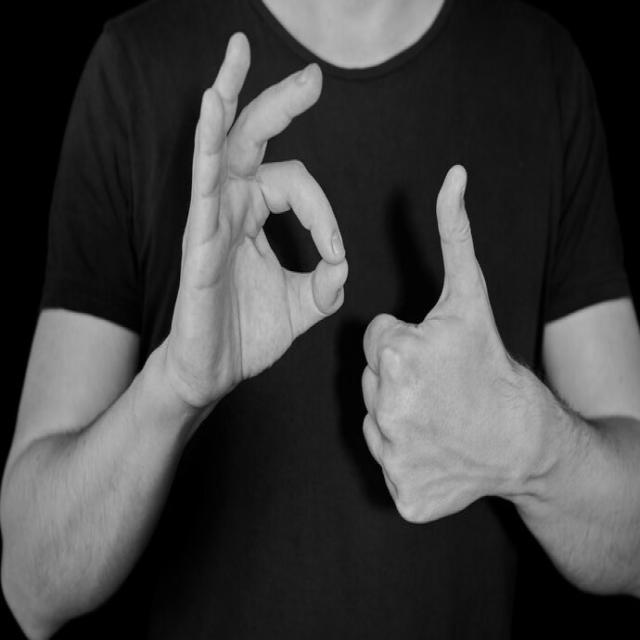perfect: (165, 21, 351, 437)
